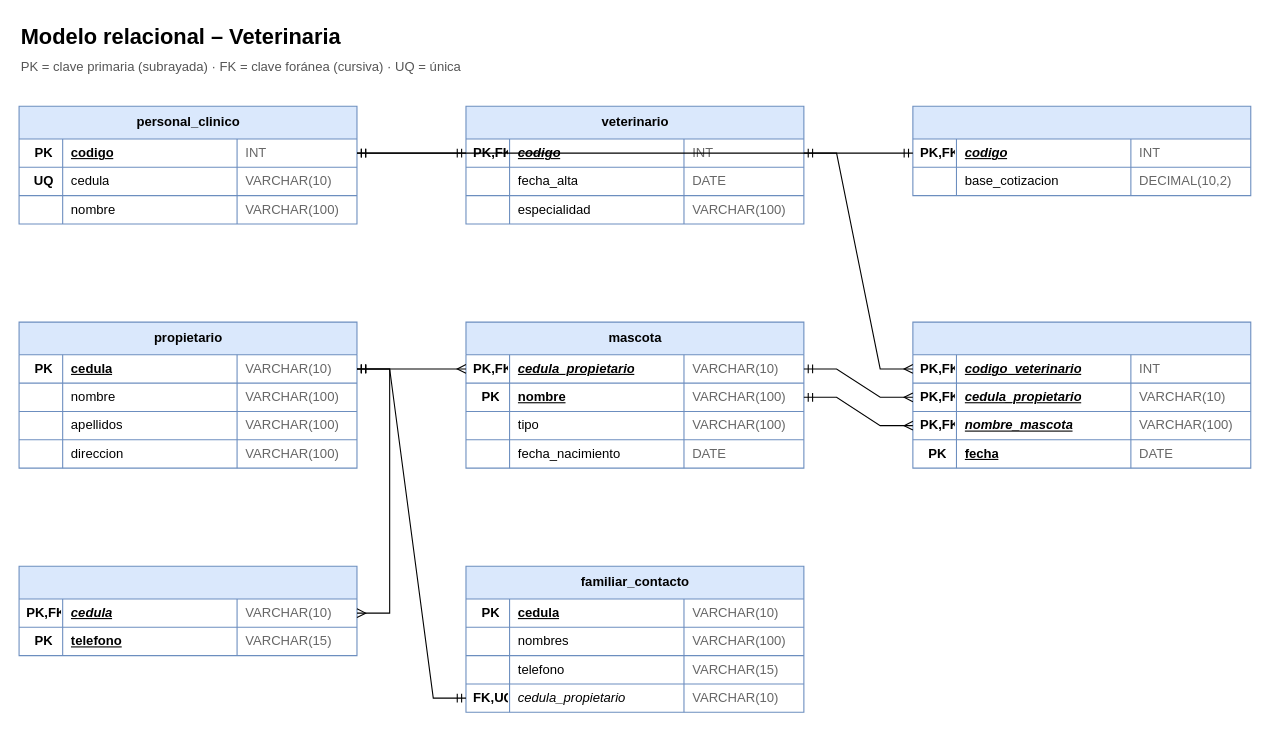
This 1270x731 diagram has some shape labels left out. The box of each missing label's shape, as (x1, y1, x2, y2) in pixels:
auxiliar: (912, 105, 1251, 196)
consulta: (912, 321, 1251, 468)
propietario_telefono: (18, 565, 357, 656)
